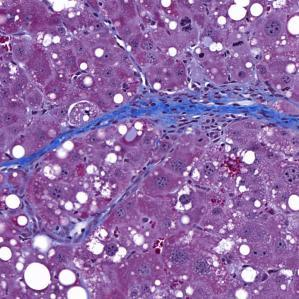fibrosis: (132, 87, 267, 134)
